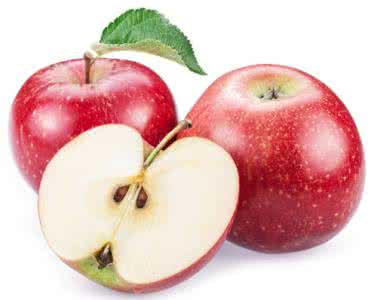apple: (172, 54, 364, 252), (14, 53, 170, 201)
